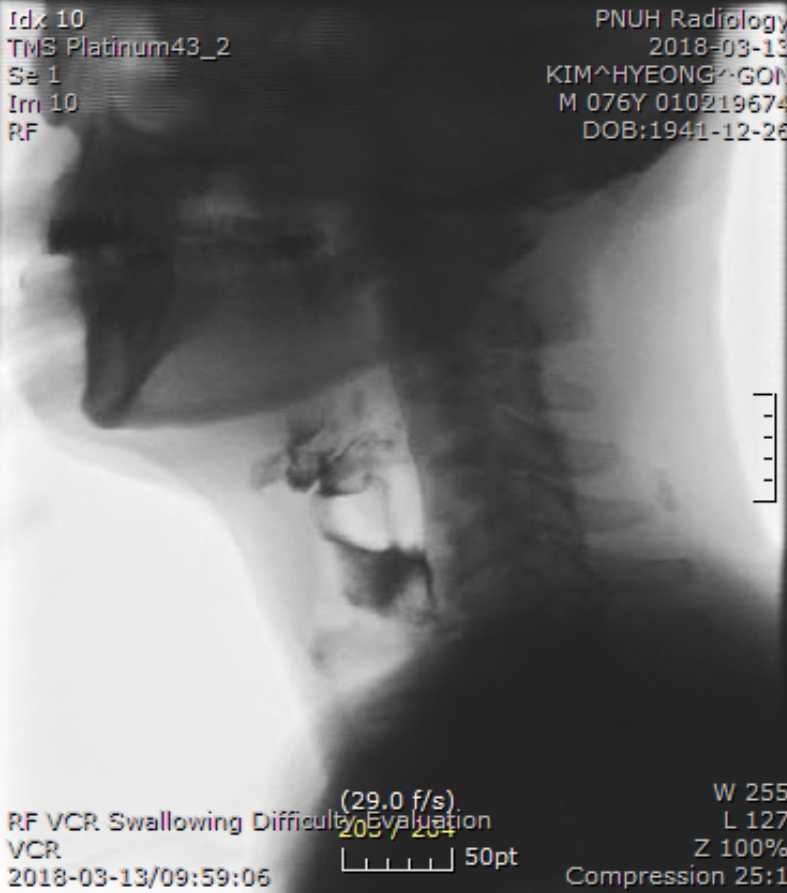dros: (342, 525, 420, 632)
food: (235, 383, 455, 654)
uros: (254, 420, 347, 507)
